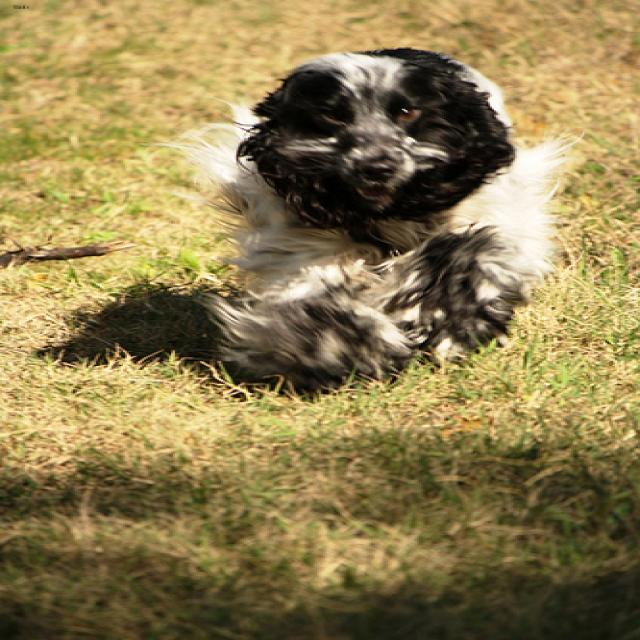dog-english_cocker_spaniel: (169, 37, 584, 402)
